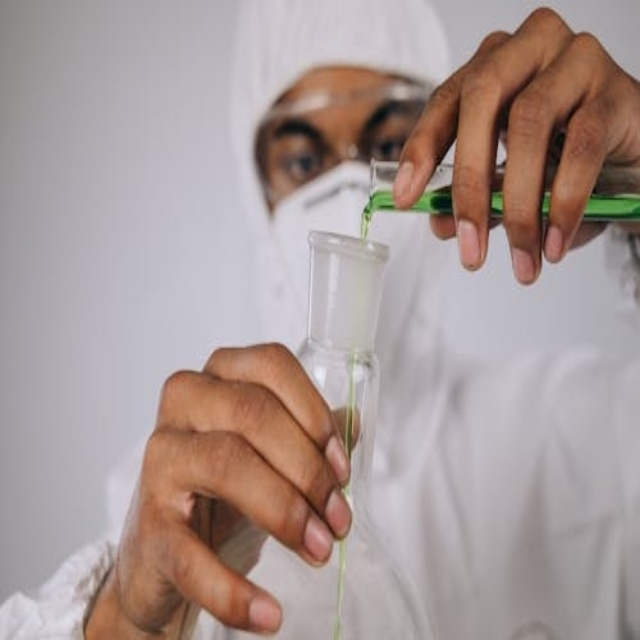Gafas: (258, 88, 429, 216)
Mascara: (269, 156, 405, 346), (602, 219, 640, 319)
Sin_guantes: (112, 339, 358, 638), (390, 4, 639, 287)
